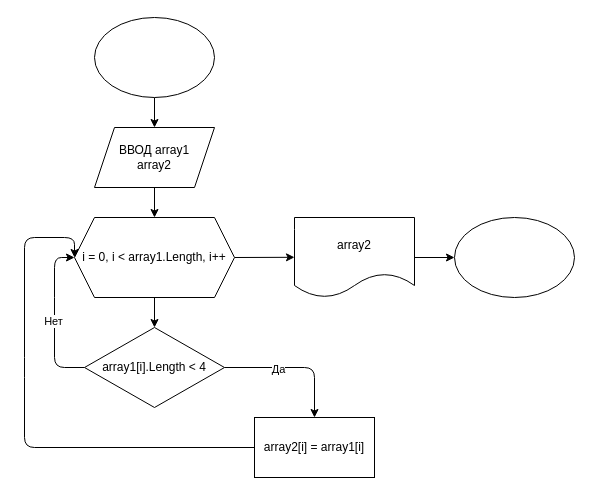
This 592x495 diagram has some shape labels left out. Here are the shapes that lost their labels. From the top down, the box of each, then its label:
(94, 16, 214, 98): START
(454, 216, 574, 298): END
